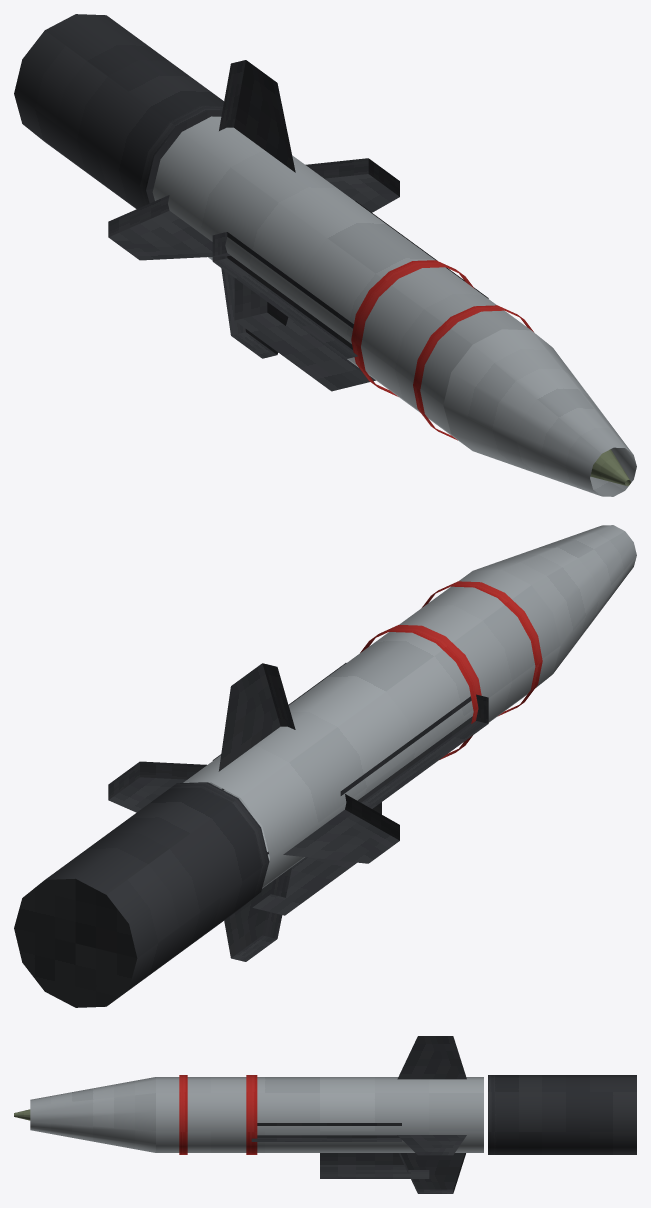
File: missile_cruise_he.glb
3 renders of one model, top to bottom at view 1: azimuth 30°, elevation 25°; view 2: azimuth 150°, elevation 25°; view 3: azimuth 270°, elevation 25°, orthographic. The views are drawn at different scales.
Visible parts, largest first — view 1: body; view 2: body; view 3: body.
Part boxes in pixels (x1,y1,x2,y2): body: (14, 14, 636, 496); body: (14, 525, 636, 1007); body: (14, 1036, 636, 1193).
Bounding box in the file's own units: 0.62 × 0.62 × 2.28.
1 material, 1 textured.
